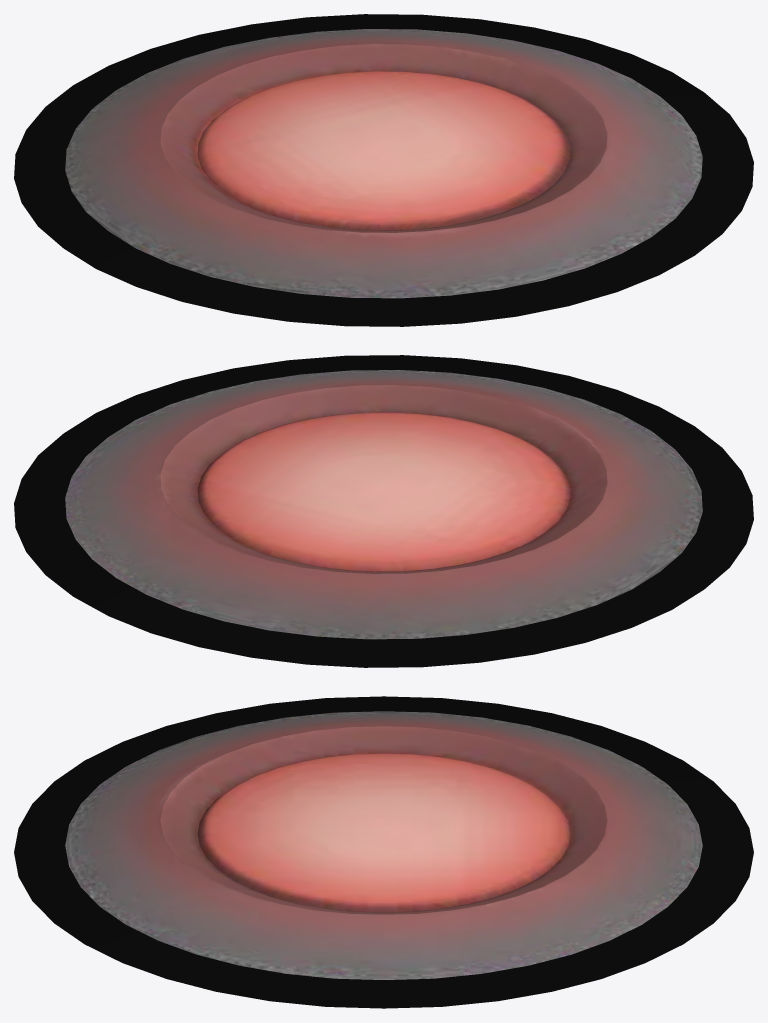
The picture shows the model from 3 angles, top to bottom: view 1: azimuth 30°, elevation 25°; view 2: azimuth 150°, elevation 25°; view 3: azimuth 270°, elevation 25°; orthographic projection.
Parts seen in each view (by area): view 1: body0_model0_lod0_mesh0; view 2: body0_model0_lod0_mesh0; view 3: body0_model0_lod0_mesh0.
Part boxes in pixels (bbox=[...]): body0_model0_lod0_mesh0: bbox=[14, 14, 753, 326]; body0_model0_lod0_mesh0: bbox=[14, 355, 753, 667]; body0_model0_lod0_mesh0: bbox=[14, 696, 753, 1008].
Size of the model in its own units: 82.26 by 3.94 by 82.42.
Materials: 1 (1 with a texture image).
